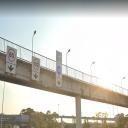speed_limit_100: (33, 57, 40, 72)
speed_limit_120: (56, 53, 62, 66)
speed_limit_80: (7, 47, 16, 64)
